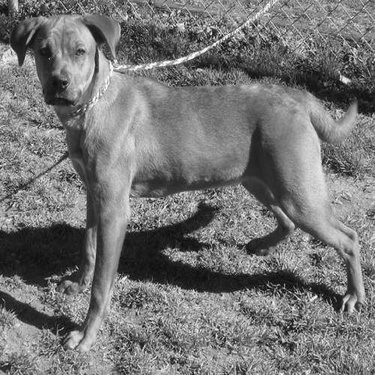dog: (3, 11, 370, 355)
